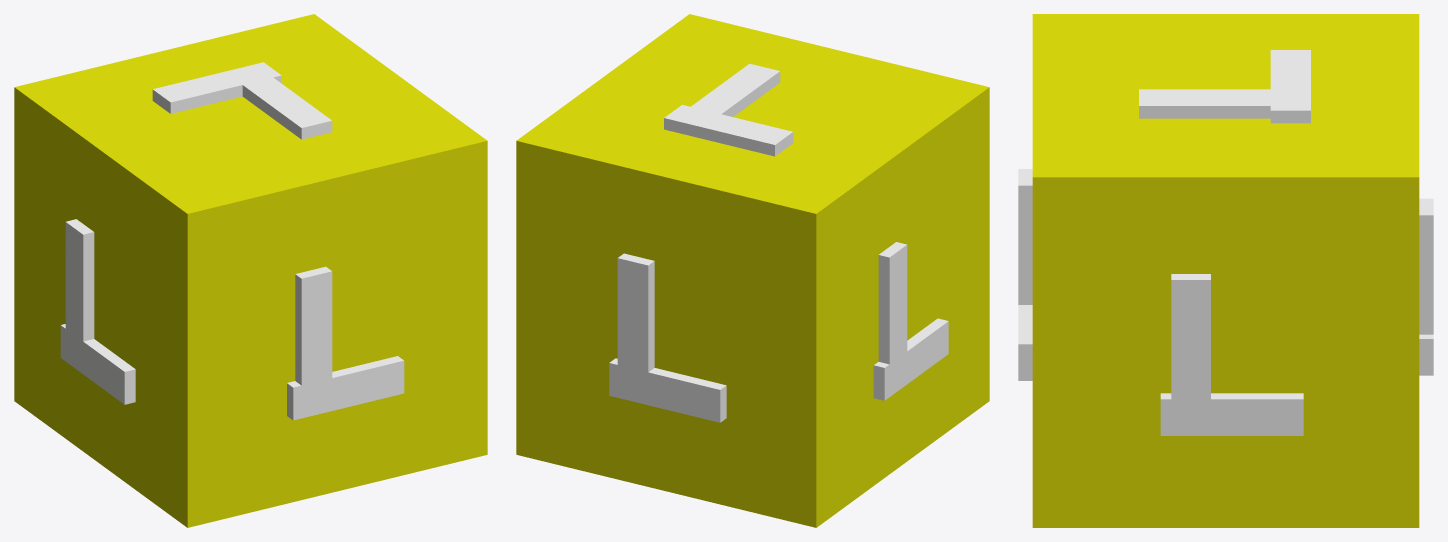
File: DISTRACTOR_2.glb
3 views of the same model, side by side, from view 1: azimuth 30°, elevation 25°; view 2: azimuth 150°, elevation 25°; view 3: azimuth 270°, elevation 25° (orthographic). The views are drawn at different scales.
Parts seen in each view (by area): view 1: DISTRACTOR_HIGH_2; view 2: DISTRACTOR_HIGH_2; view 3: DISTRACTOR_HIGH_2.
Boxes of the visible parts, box(x1,y1,x2,y2) form: DISTRACTOR_HIGH_2: box(14, 14, 487, 527); DISTRACTOR_HIGH_2: box(516, 14, 989, 527); DISTRACTOR_HIGH_2: box(1018, 14, 1433, 527).
Size of the model in its own units: 2.15 by 2.15 by 2.15.
